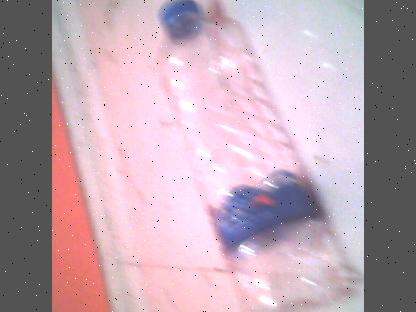Plastic Bottle: (146, 0, 363, 312)
